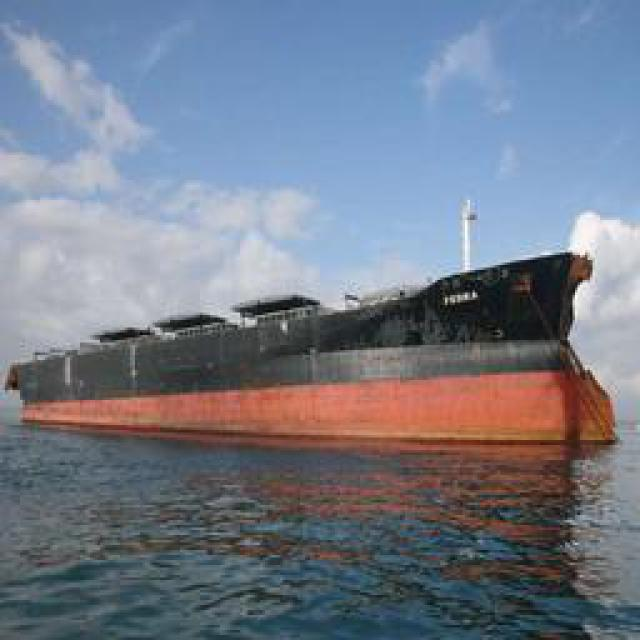Ship: (26, 225, 621, 450)
